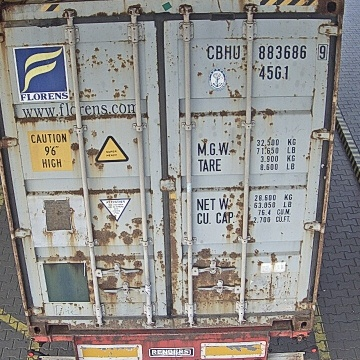serial_id: (207, 45, 327, 59)
